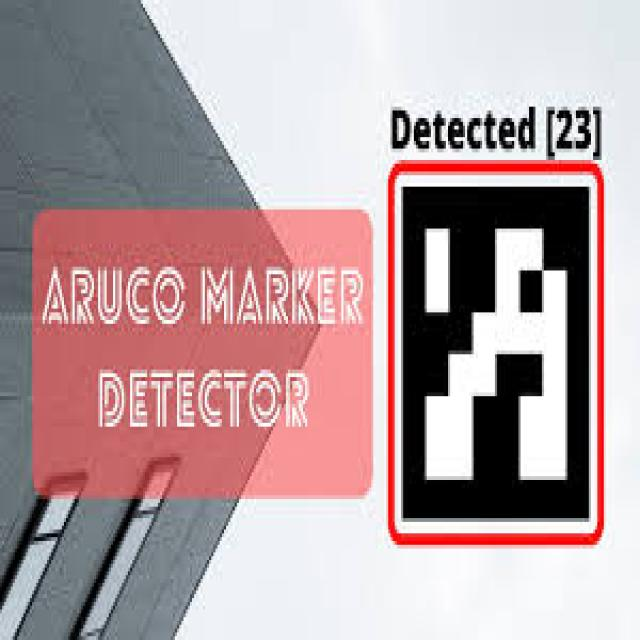aruco: (394, 178, 595, 570)
